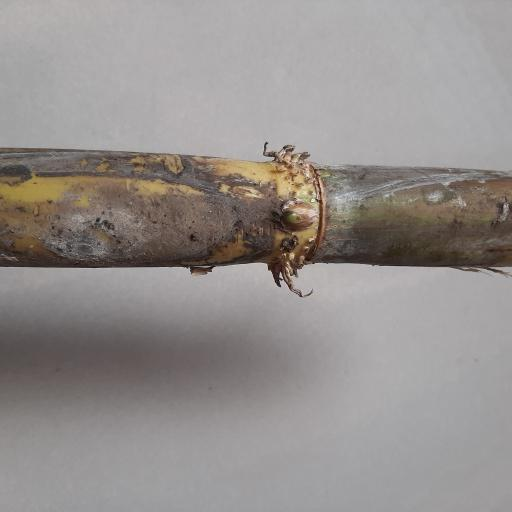Bud: (277, 200, 318, 233)
